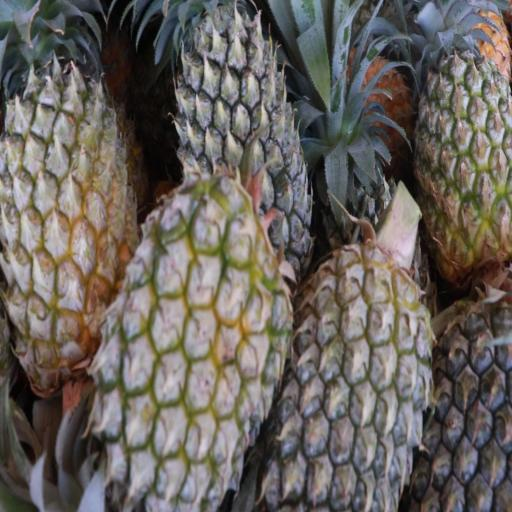------------------------------: (104, 186, 286, 509), (4, 0, 136, 346), (417, 17, 512, 266)
